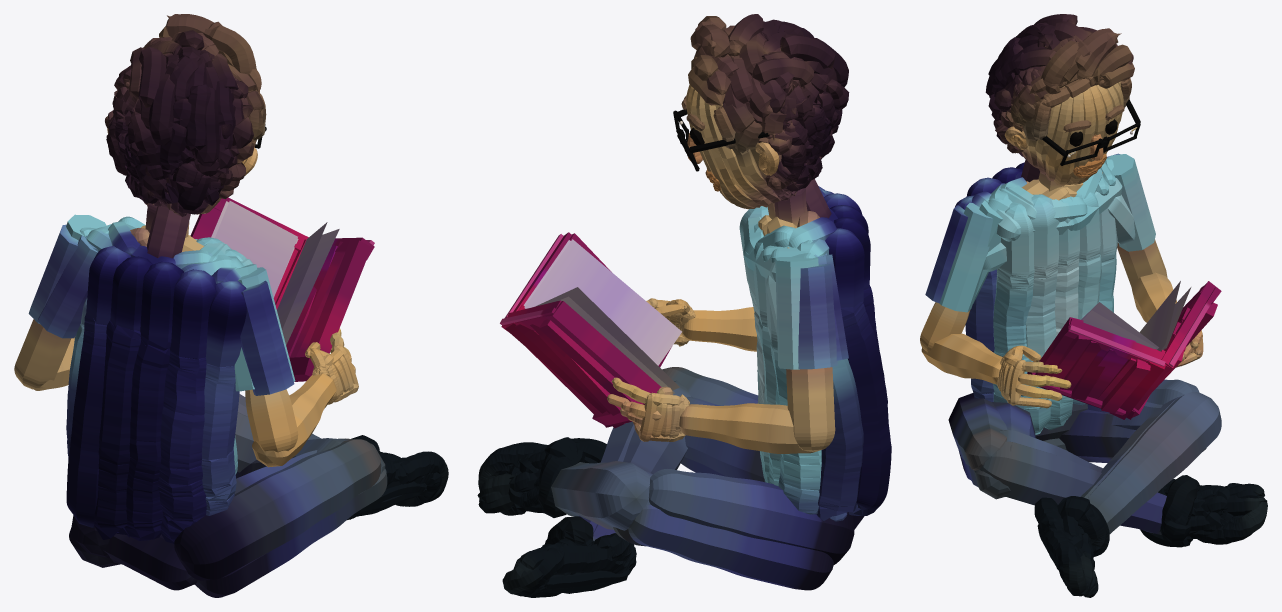
File: Dadread.fbx
3 views of the same model, side by side, from view 1: azimuth 30°, elevation 25°; view 2: azimuth 150°, elevation 25°; view 3: azimuth 270°, elevation 25° (orthographic). The views are drawn at different scales.
Visible parts, largest first — view 1: NewLayer0; view 2: NewLayer0; view 3: NewLayer0.
Part boxes in pixels (x1=…): NewLayer0: x1=14, y1=14, x2=448, y2=597; NewLayer0: x1=477, y1=14, x2=891, y2=597; NewLayer0: x1=920, y1=14, x2=1267, y2=597.
Size of the model in its own units: 1.61 by 2.18 by 1.44.
